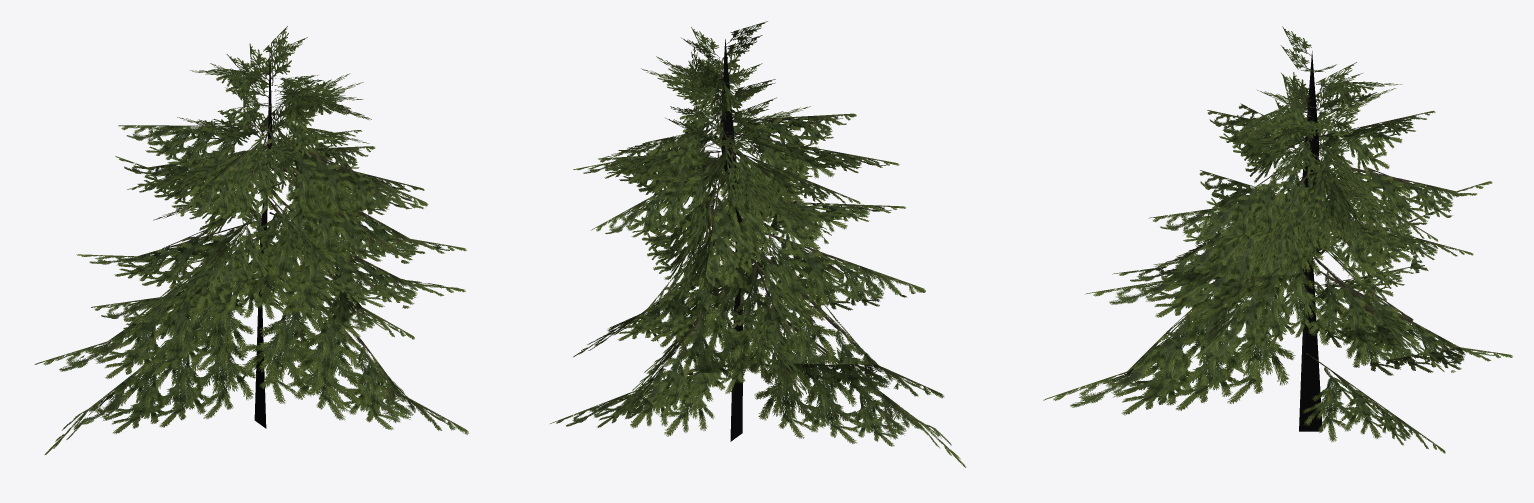
The model's file is spruce2 lod4.FBX.
3 renders of one model, left to right at view 1: azimuth 30°, elevation 25°; view 2: azimuth 150°, elevation 25°; view 3: azimuth 270°, elevation 25°, orthographic. The views are drawn at different scales.
Visible parts, largest first — view 1: spruce2_LOD4; view 2: spruce2_LOD4; view 3: spruce2_LOD4.
Part boxes in pixels (x1,y1,x2,y2): spruce2_LOD4: (34, 26, 469, 454); spruce2_LOD4: (550, 21, 965, 467); spruce2_LOD4: (1043, 26, 1512, 453).
Bounding box in the file's own units: 83830 × 82172 × 92284.
